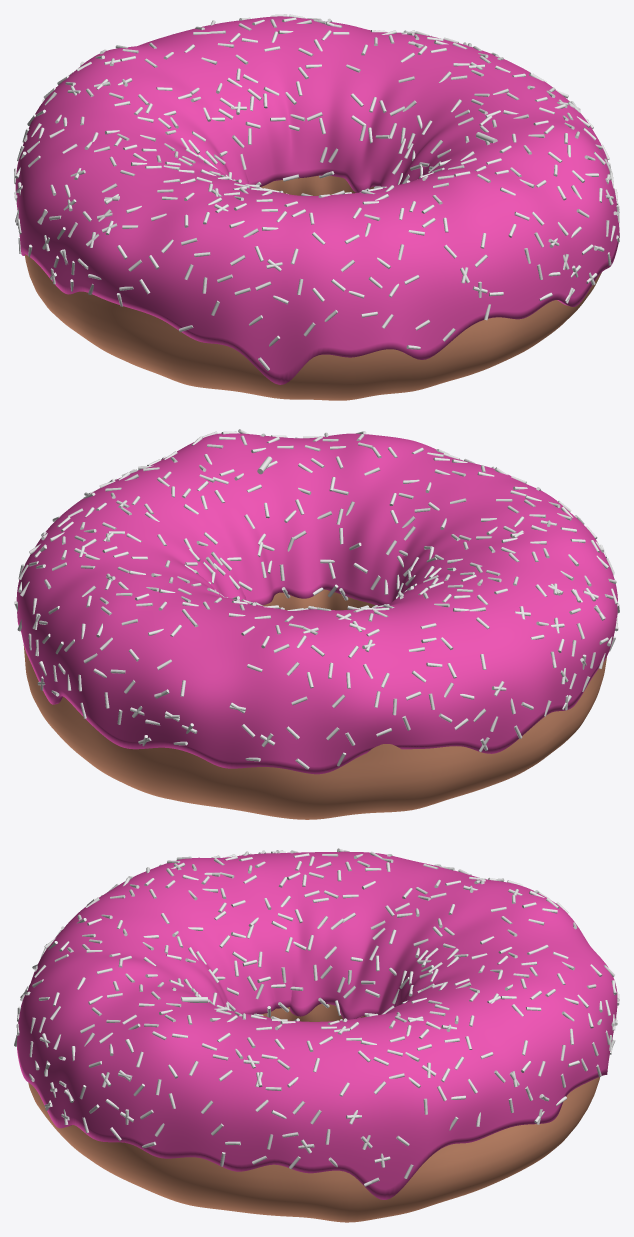
File: donutX.fbx
The picture shows the model from 3 angles, top to bottom: view 1: azimuth 30°, elevation 25°; view 2: azimuth 150°, elevation 25°; view 3: azimuth 270°, elevation 25°; orthographic projection. The views are drawn at different scales.
Parts seen in each view (by area): view 1: frosting, donut body; view 2: frosting, donut body; view 3: frosting, donut body.
Part boxes in pixels (bbox=[...]): frosting: bbox=[15, 16, 619, 384]; donut body: bbox=[25, 175, 601, 400]; frosting: bbox=[16, 433, 617, 774]; donut body: bbox=[23, 589, 606, 819]; frosting: bbox=[17, 851, 617, 1199]; donut body: bbox=[28, 1004, 599, 1222].
Size of the model in its own units: 434 by 155 by 448.
